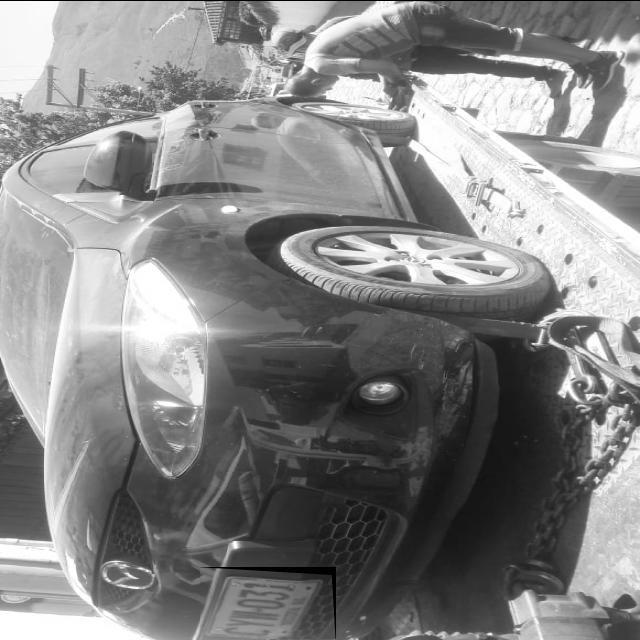plate: (200, 566, 336, 638)
